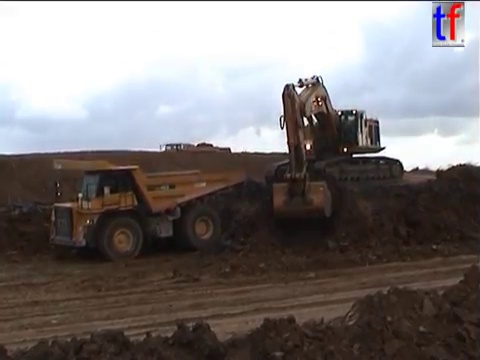excavator: (263, 73, 405, 220)
truck: (41, 157, 246, 262), (158, 140, 232, 166)
